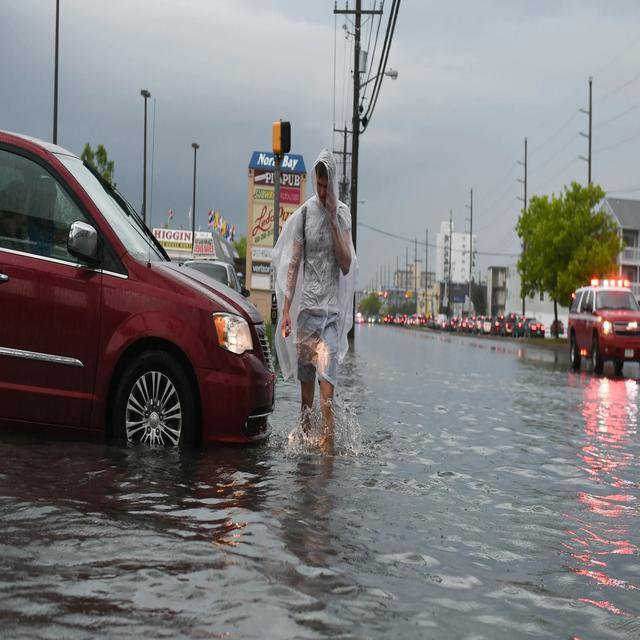Car-RiskLevel2: (0, 130, 281, 480), (561, 275, 640, 388)
Person-RiskLevel2: (277, 150, 366, 458)
